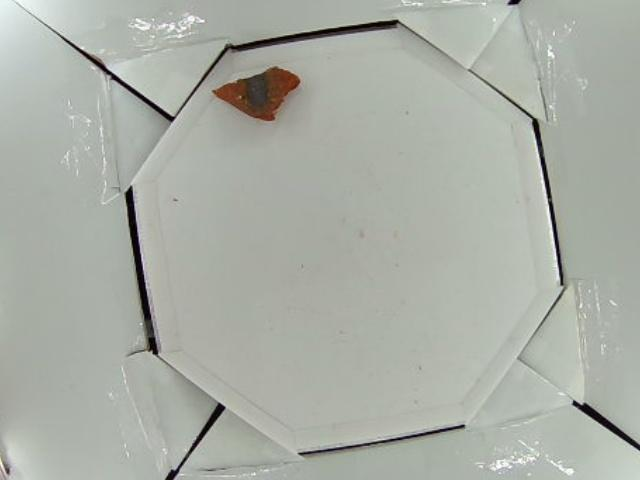Brisk: (214, 65, 300, 122)
